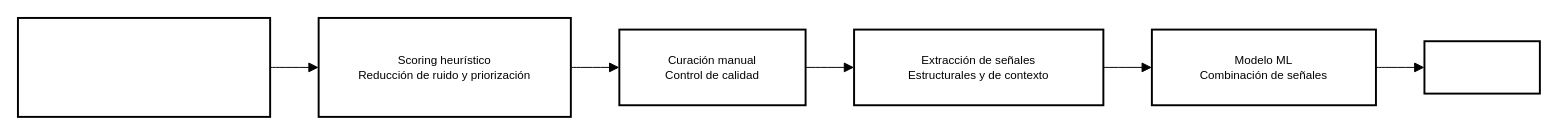
Some shapes in this 1557 by 134 pixel diagram are drawn without their labels. The shapes that lost their labels are listed below. From the top down, each one's centre as x and y in pixels, then its label:
pixel 143 66: Feeds OSINT OpenPhish · PhishTank · TweetFeed · GitHub
pixel 1481 67: Decisión
